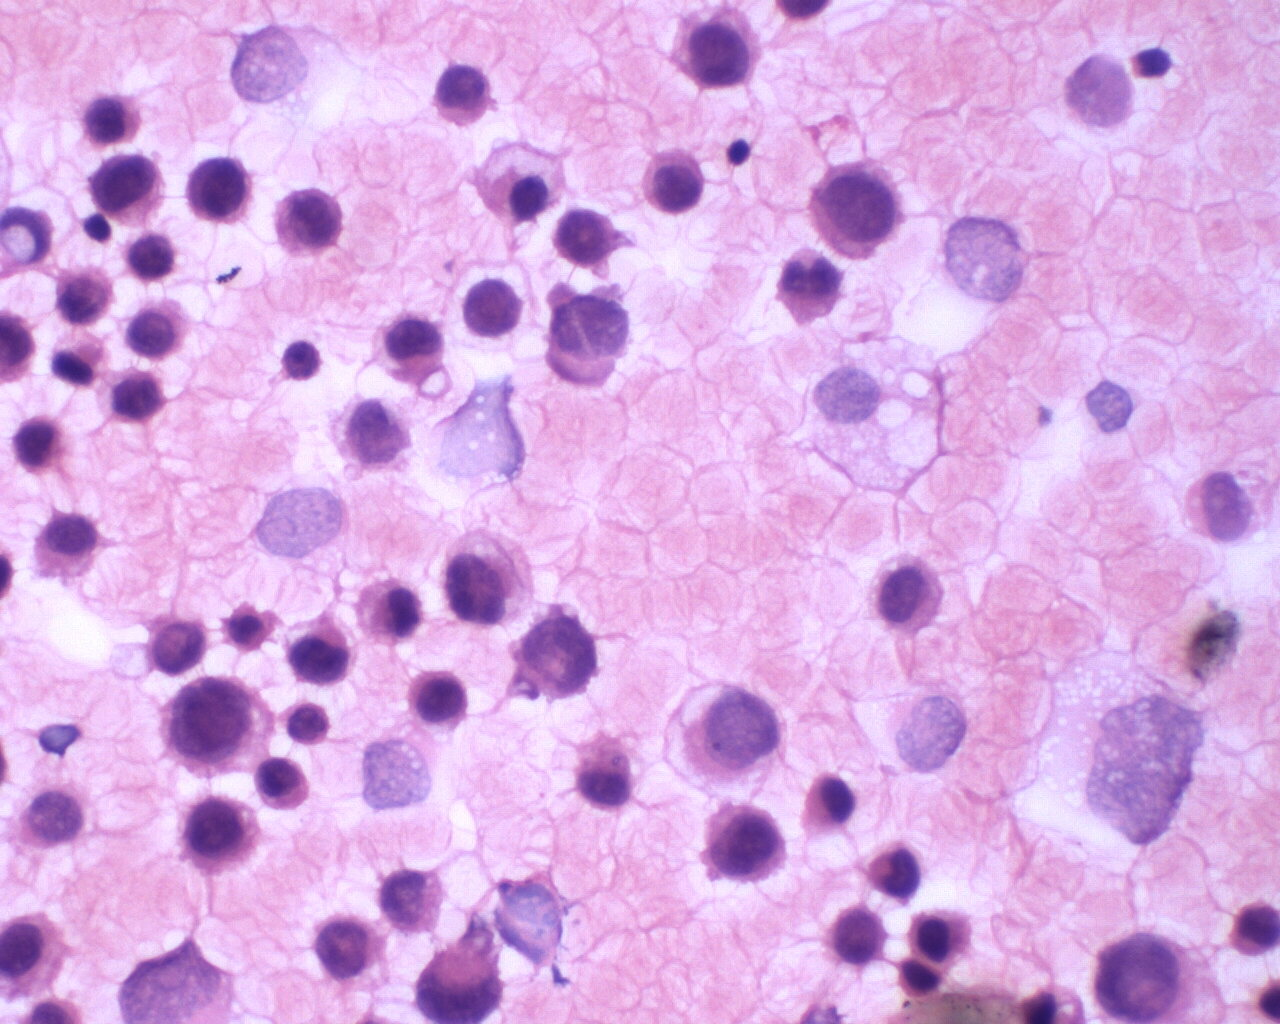ab: (159, 675, 273, 778), (804, 157, 907, 266), (704, 798, 794, 892), (671, 7, 765, 92), (174, 789, 261, 877), (85, 152, 169, 232), (307, 908, 389, 985), (269, 185, 345, 260), (185, 155, 259, 228), (550, 203, 630, 269), (284, 616, 355, 689), (139, 612, 210, 680), (123, 296, 195, 363), (51, 259, 118, 330), (639, 149, 709, 216), (430, 61, 495, 132), (406, 666, 470, 734), (866, 842, 926, 904), (253, 753, 313, 813), (827, 909, 886, 968), (280, 697, 334, 749)
meso: (861, 549, 949, 638)
